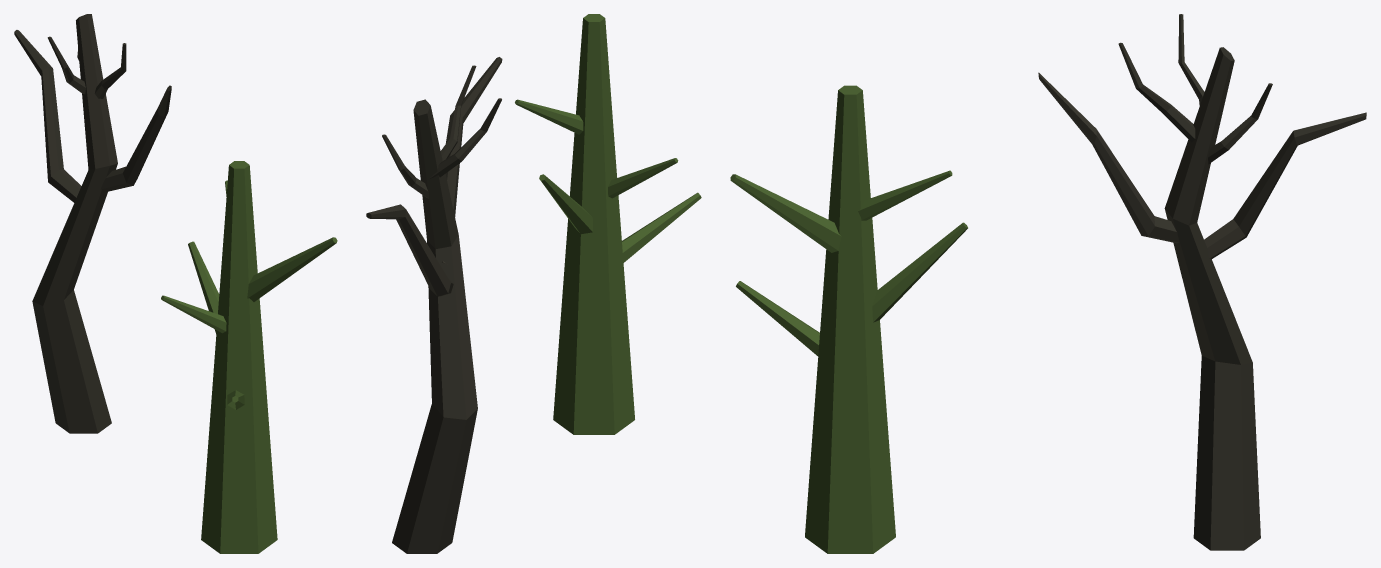
The model's file is DmgTrees.fbx.
3 renders of one model, left to right at view 1: azimuth 30°, elevation 25°; view 2: azimuth 150°, elevation 25°; view 3: azimuth 270°, elevation 25°, orthographic. The views are drawn at different scales.
Parts seen in each view (by area): view 1: Cylinder, Trunk; view 2: Cylinder, Trunk; view 3: Cylinder, Trunk.
Part boxes in pixels (bbox=[...]): Cylinder: bbox=[161, 161, 337, 553]; Trunk: bbox=[14, 14, 171, 433]; Cylinder: bbox=[515, 14, 701, 434]; Trunk: bbox=[366, 57, 502, 553]; Cylinder: bbox=[730, 85, 967, 553]; Trunk: bbox=[1038, 14, 1366, 550].
Bounding box in the file's own units: 162 × 505 × 591.
